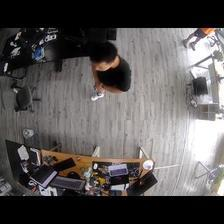normal: (85, 40, 131, 100), (183, 28, 215, 50)
